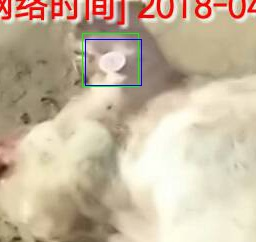text: (82, 33, 138, 86)
